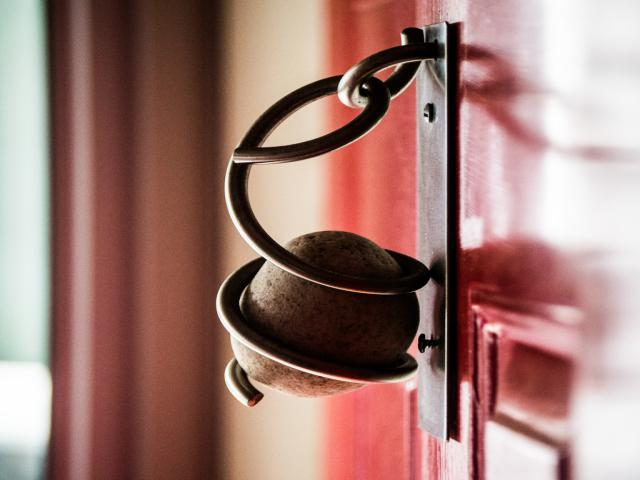Door-handle: (210, 14, 454, 446)
